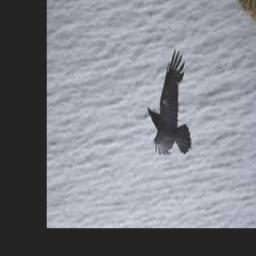Crow: (147, 49, 192, 158)
